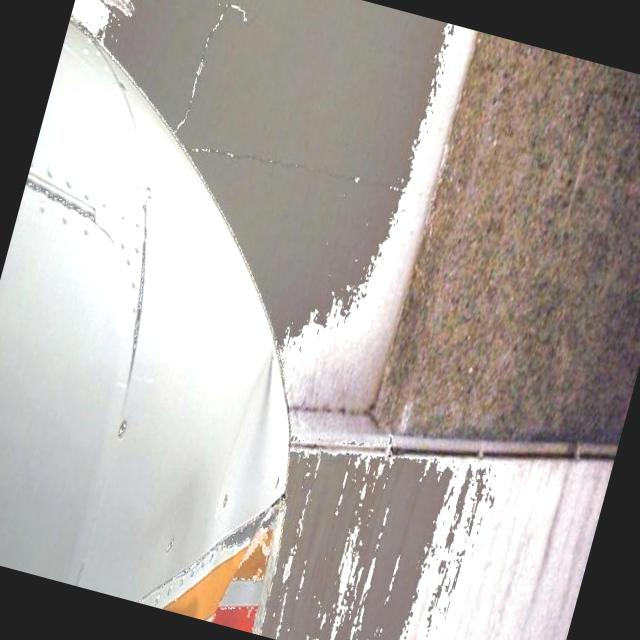crack: (175, 3, 242, 129), (126, 193, 149, 395), (24, 177, 94, 218), (194, 148, 303, 170)
dent: (96, 0, 475, 348), (256, 452, 485, 640), (138, 331, 289, 609)
